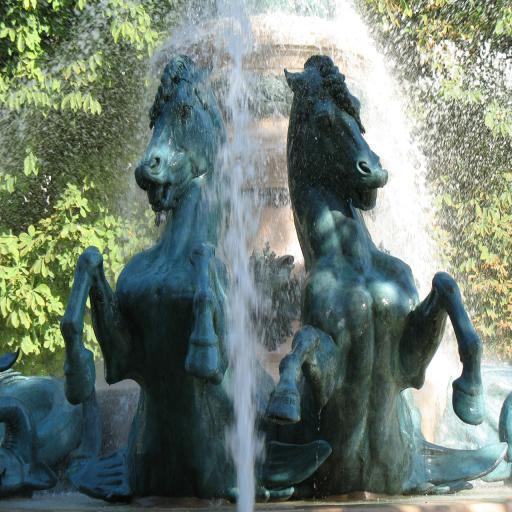horse: (261, 54, 487, 494), (62, 52, 275, 498)
